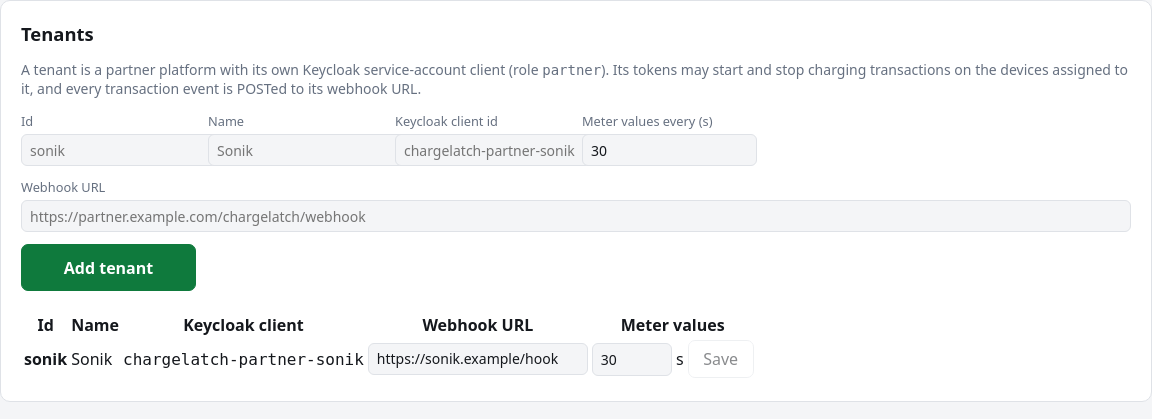
the webhook URL and interval of an existing tenant can be changed inline
The width and height of the screenshot is (1152, 419).
Expected: the button "Save" is disabled, [688, 340, 754, 378]
Replace the text in the field named "sonik webhook URL" with "https://sonik.example/v2/hook": (478, 359) [368, 343, 588, 375]
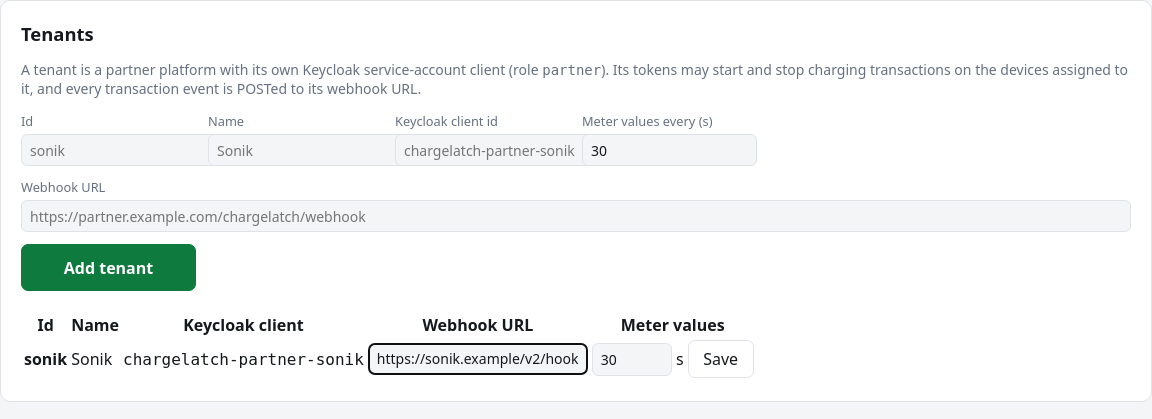
Replace the text in the number field named "sonik meter value interval" with "15": (632, 359) [592, 343, 672, 376]
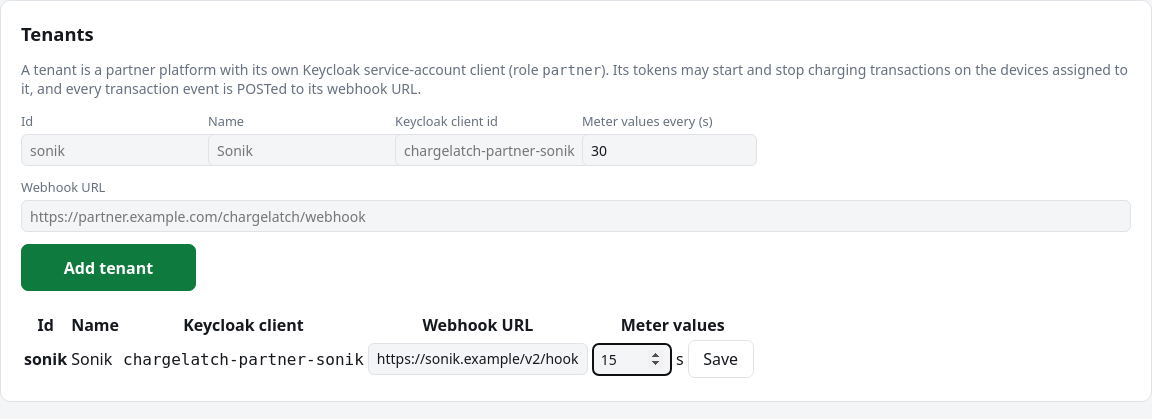
Now the button "Save" is enabled
Click the button "Save": (721, 359) [688, 340, 754, 378]
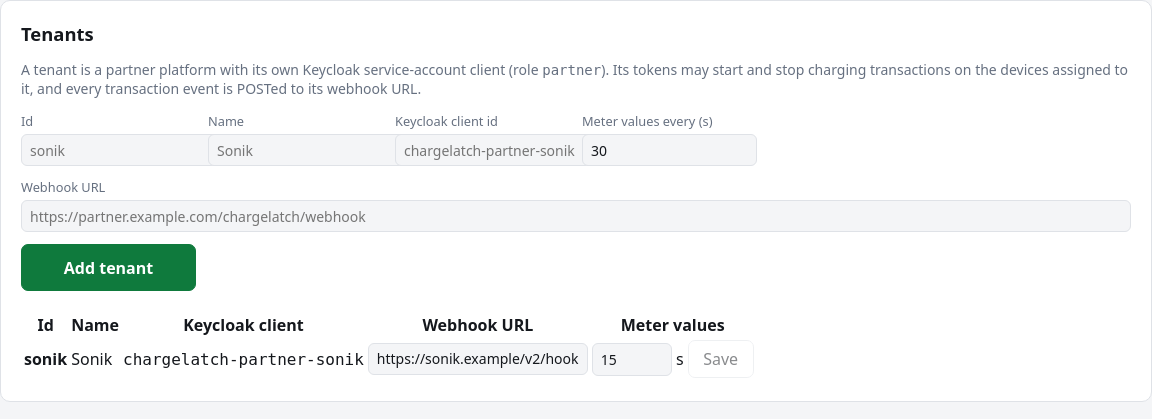
Now the button "Save" is disabled, box [688, 340, 754, 378]
